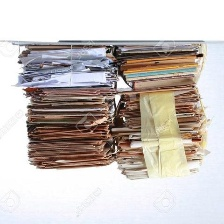news_paper: (10, 42, 120, 181), (112, 42, 215, 184)
